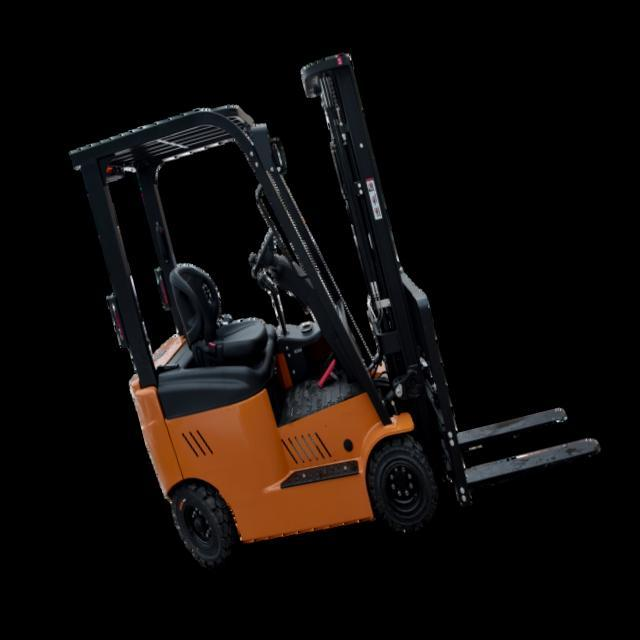forklift: (51, 45, 508, 604)
